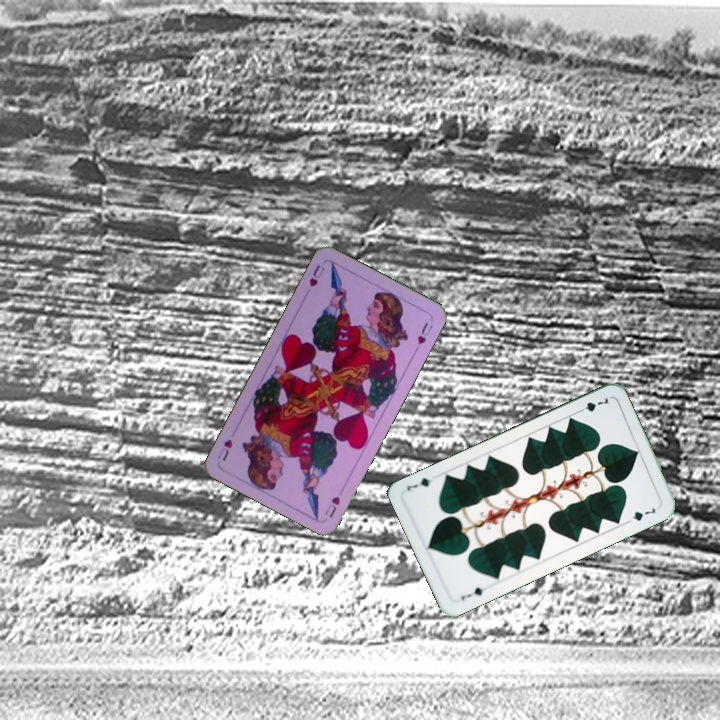G7: (573, 393, 613, 416), (457, 583, 491, 603)
HU: (320, 483, 347, 520), (305, 260, 328, 290)
